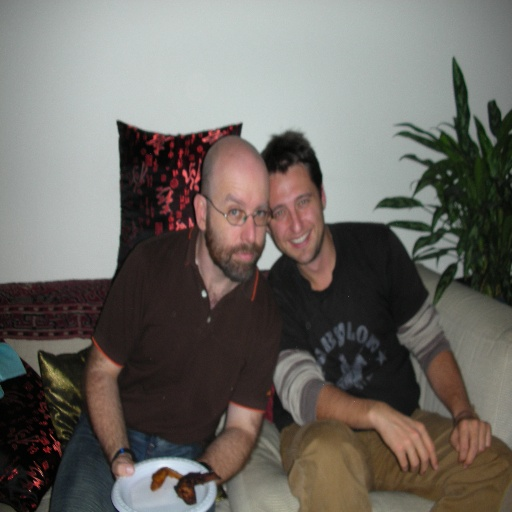hand: (339, 392, 446, 476), (451, 408, 494, 470), (108, 451, 137, 481)
